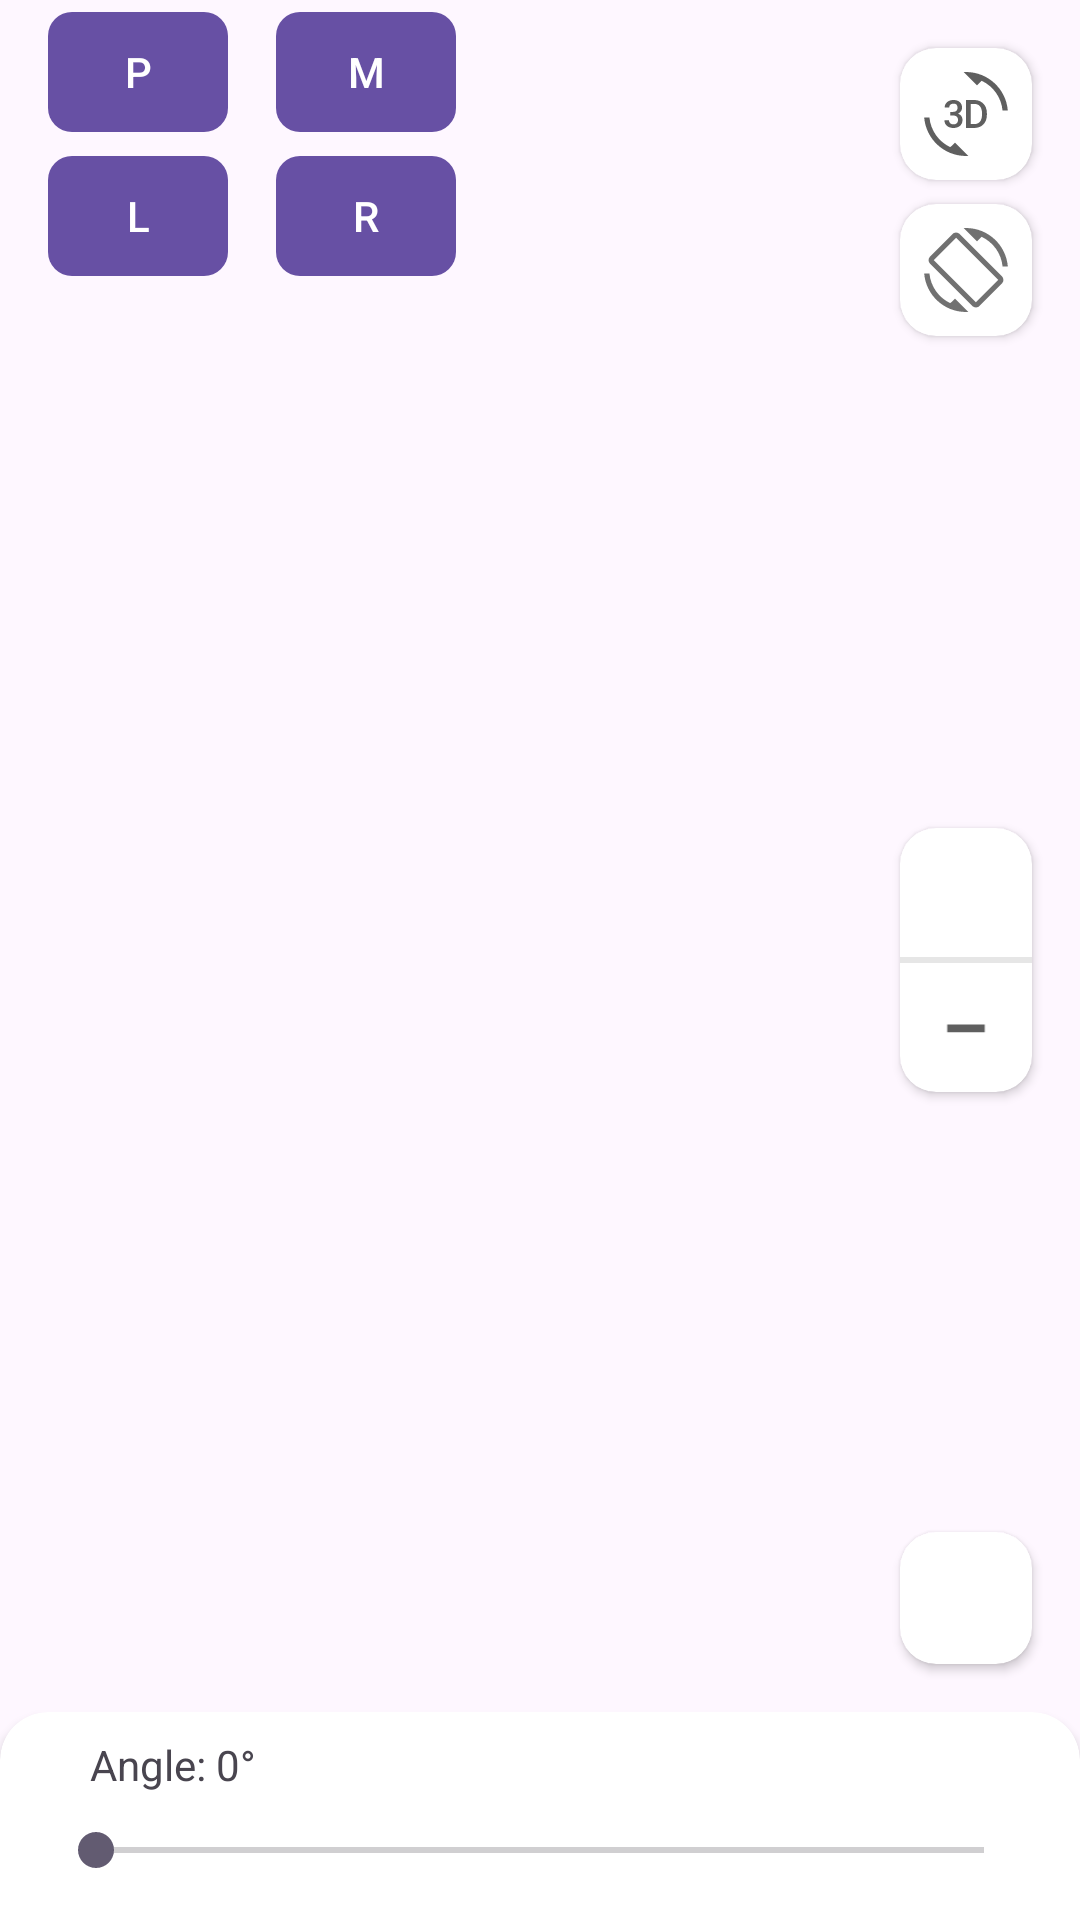

Where to tap for icons on this 1080 x 1920 app screen, as [x,y]:
minimize: [966,1028]
rotation: [966,114]
screen rotation: [966,270]
